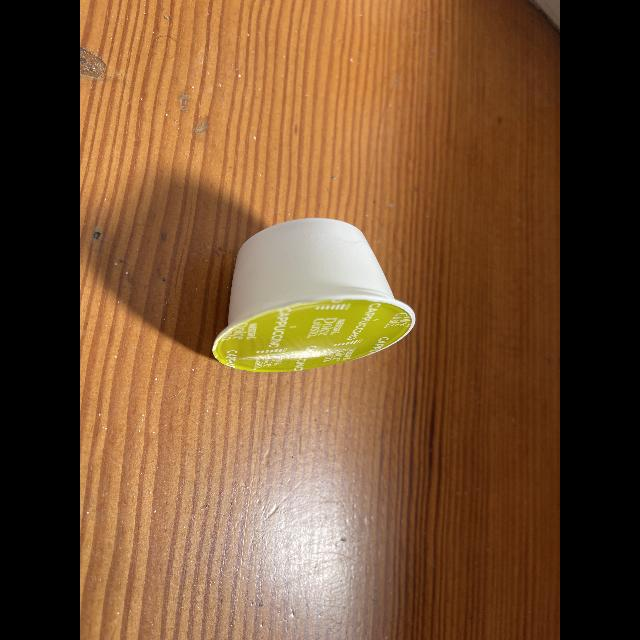intact_capsule: (200, 213, 426, 391)
